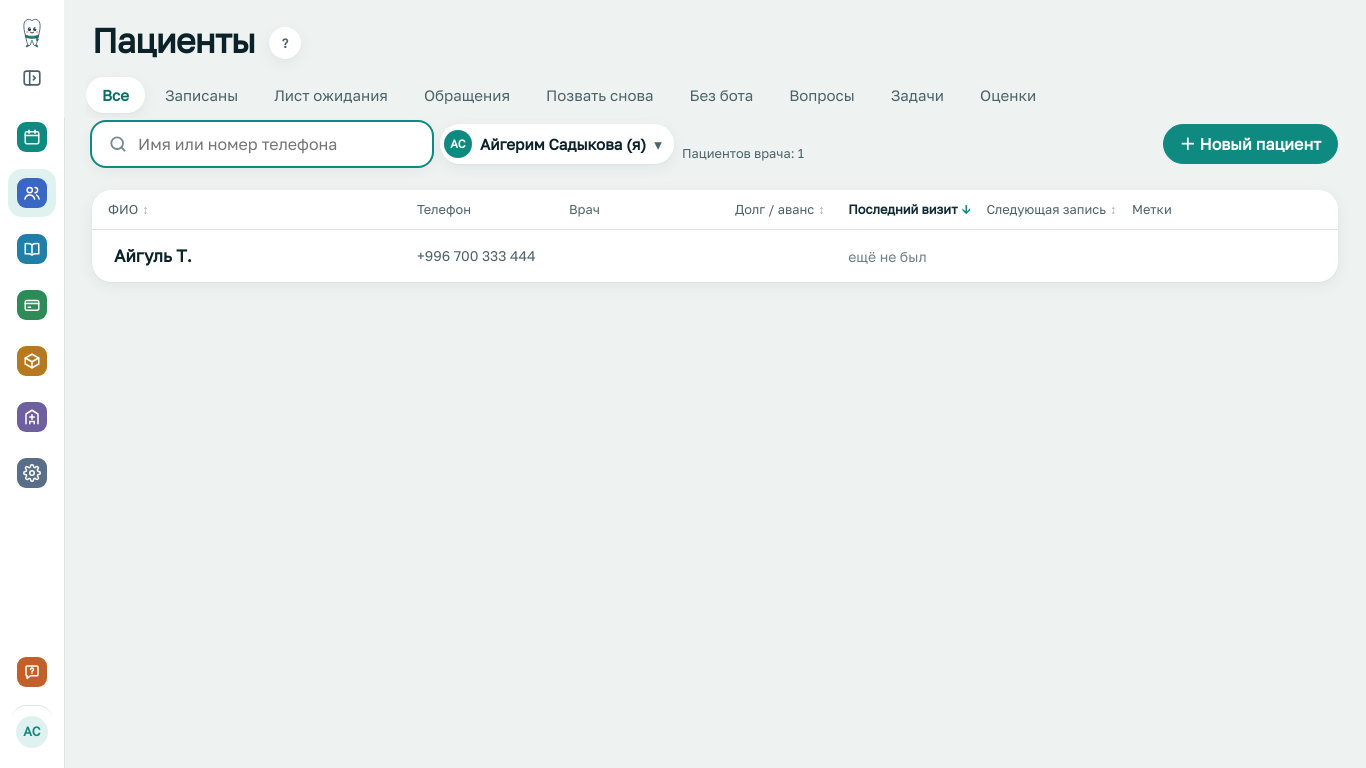
строка этапа: зачёркнутая цена, цена со скидкой и процент; итог плана — «скидка … к оплате»
Click the button "Айгуль Т.".
click(153, 256)  # box [114, 243, 192, 269]
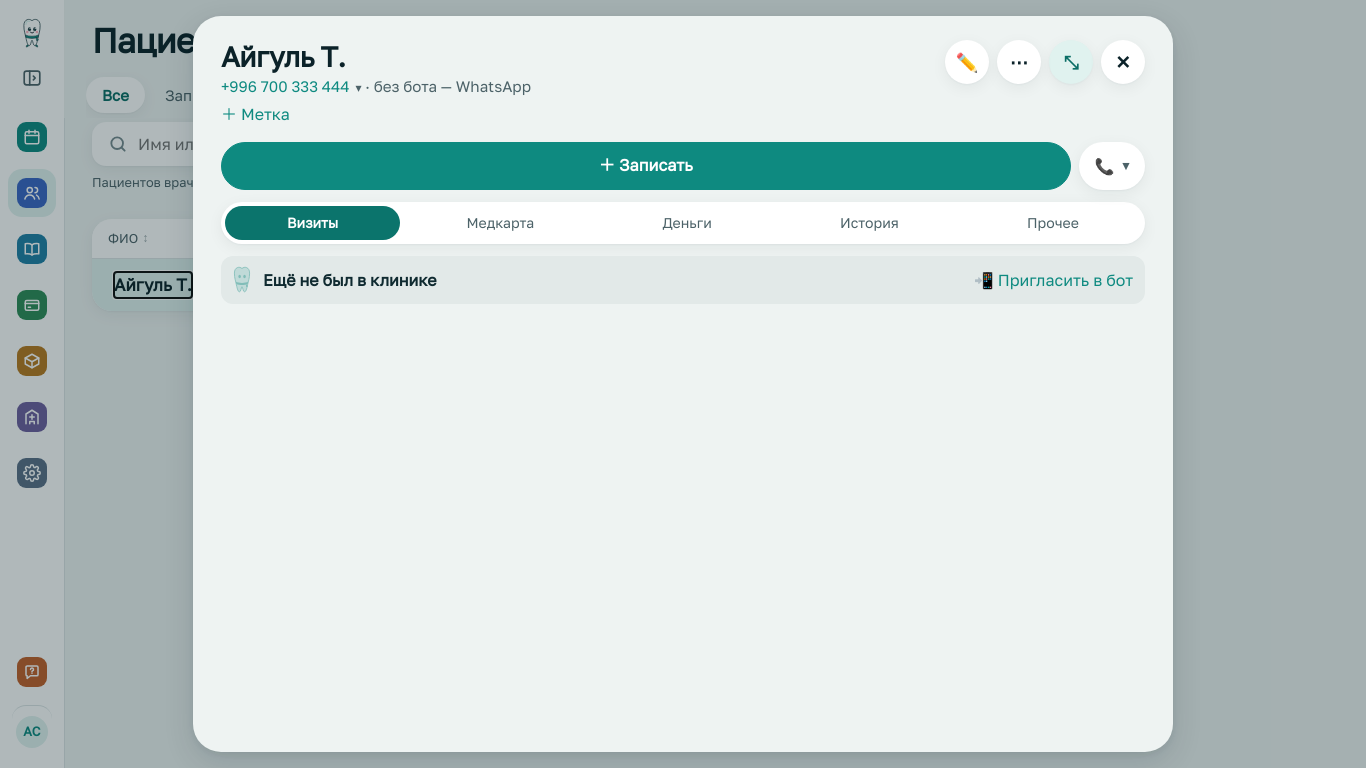
Click the tab "Медкарта".
click(500, 223)  # box [404, 206, 596, 240]
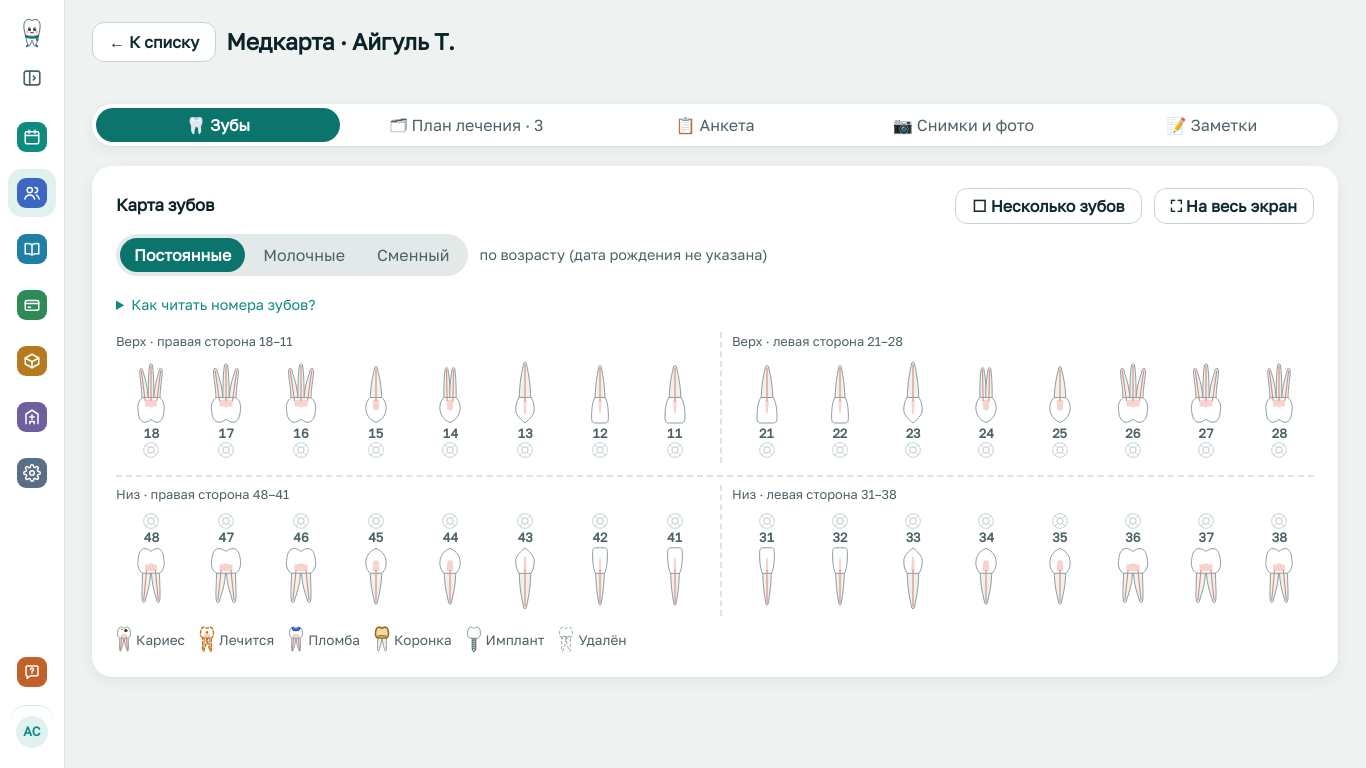
Expected: the heading "Медкарта · Айгуль Т." is shown, [226, 25, 455, 59]
Click the tab "🗂 План лечения · 3".
click(467, 125)  # box [344, 108, 589, 142]
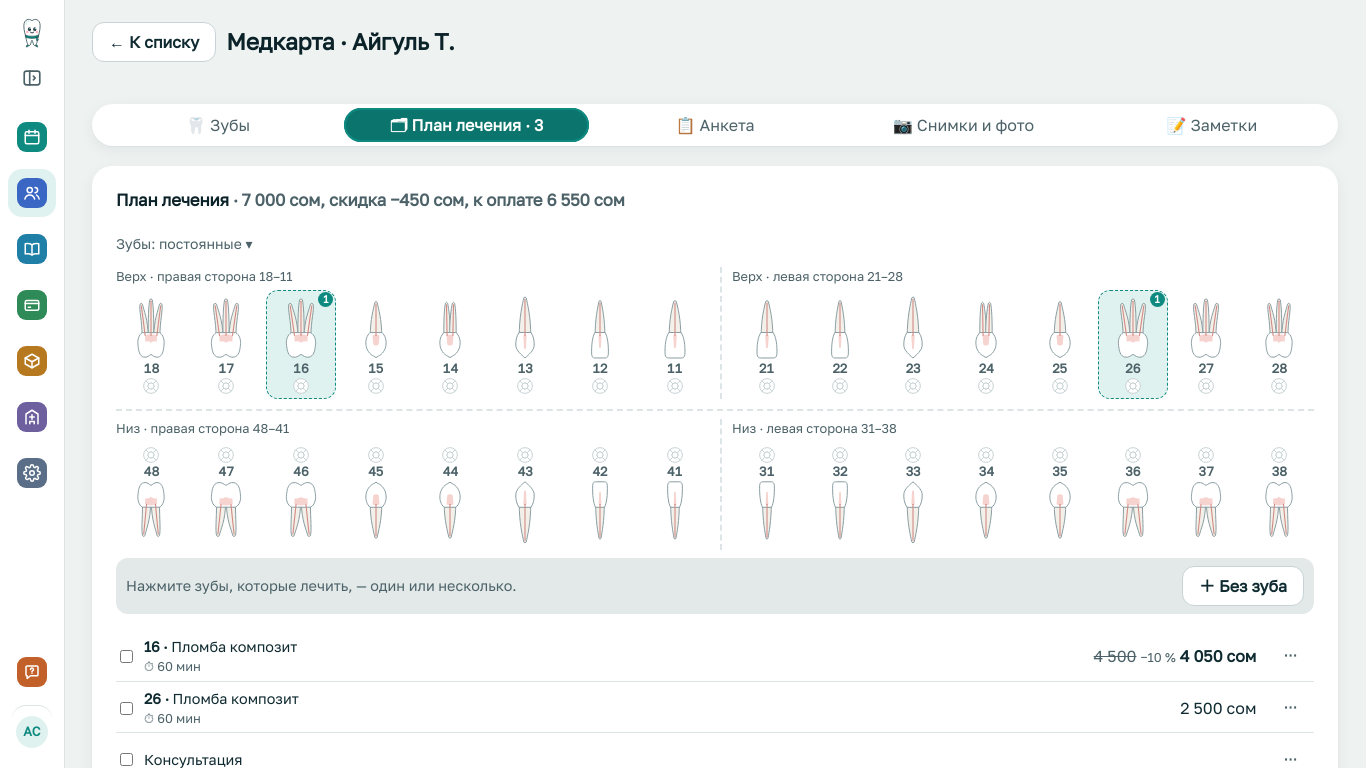
Expected: the element named "Цена 4 500 сом, со скидкой 4 050 сом" reads "4 500 −10 % 4 050 сом", [1094, 646, 1256, 666]
Expected: the heading "План лечения" reads "План лечения · 7 000 сом, скидка −450 сом, к оплате 6 550 сом", [242, 190, 625, 210]
Expected: the text "⏱ 60 мин" is shown 2 times, [144, 658, 201, 674]; [144, 710, 201, 726]
